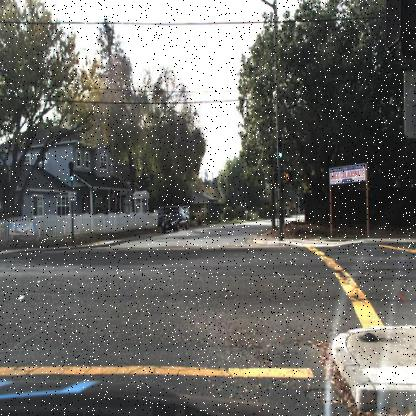car: (162, 209, 191, 233)
trafficLight: (69, 162, 74, 182)
trafficLight-Green: (277, 146, 283, 169)
